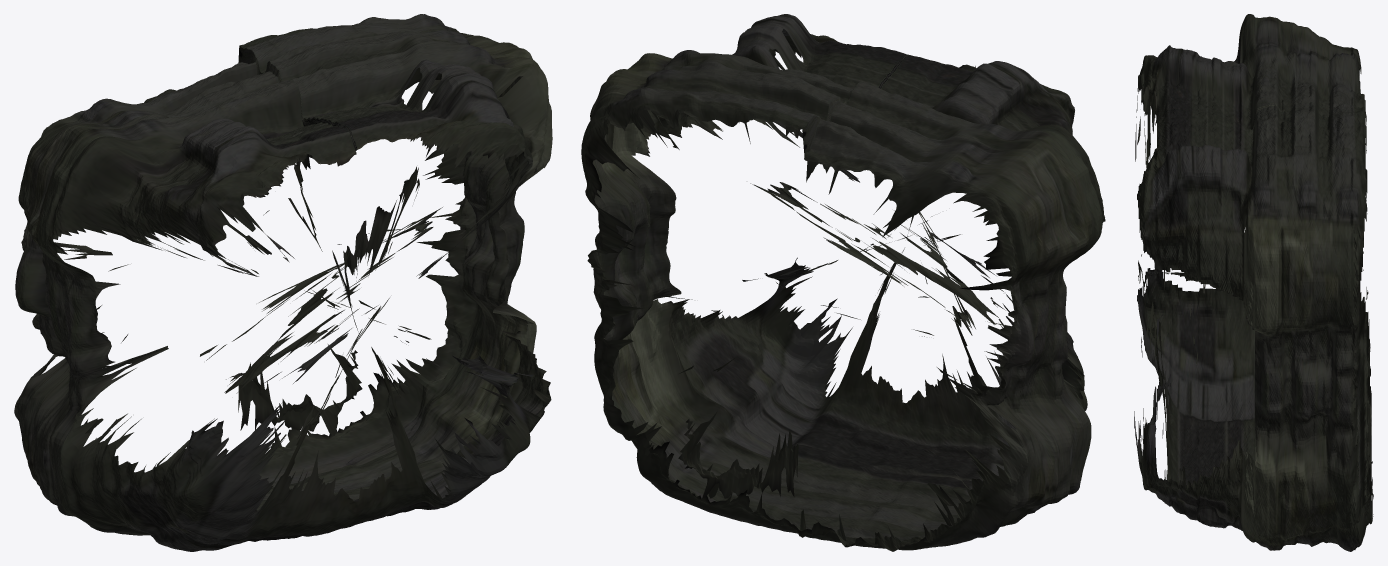
3 renders of one model, left to right at view 1: azimuth 30°, elevation 25°; view 2: azimuth 150°, elevation 25°; view 3: azimuth 270°, elevation 25°, orthographic. The views are drawn at different scales.
Visible parts, largest first — view 1: geometry_0; view 2: geometry_0; view 3: geometry_0.
Boxes of the visible parts, x1=… form: geometry_0: x1=14, y1=14, x2=552, y2=551; geometry_0: x1=581, y1=14, x2=1105, y2=551; geometry_0: x1=1134, y1=14, x2=1373, y2=551.
Bounding box in the file's own units: 1.76 × 1.5 × 0.8043.
Materials: 1 (1 with a texture image).
